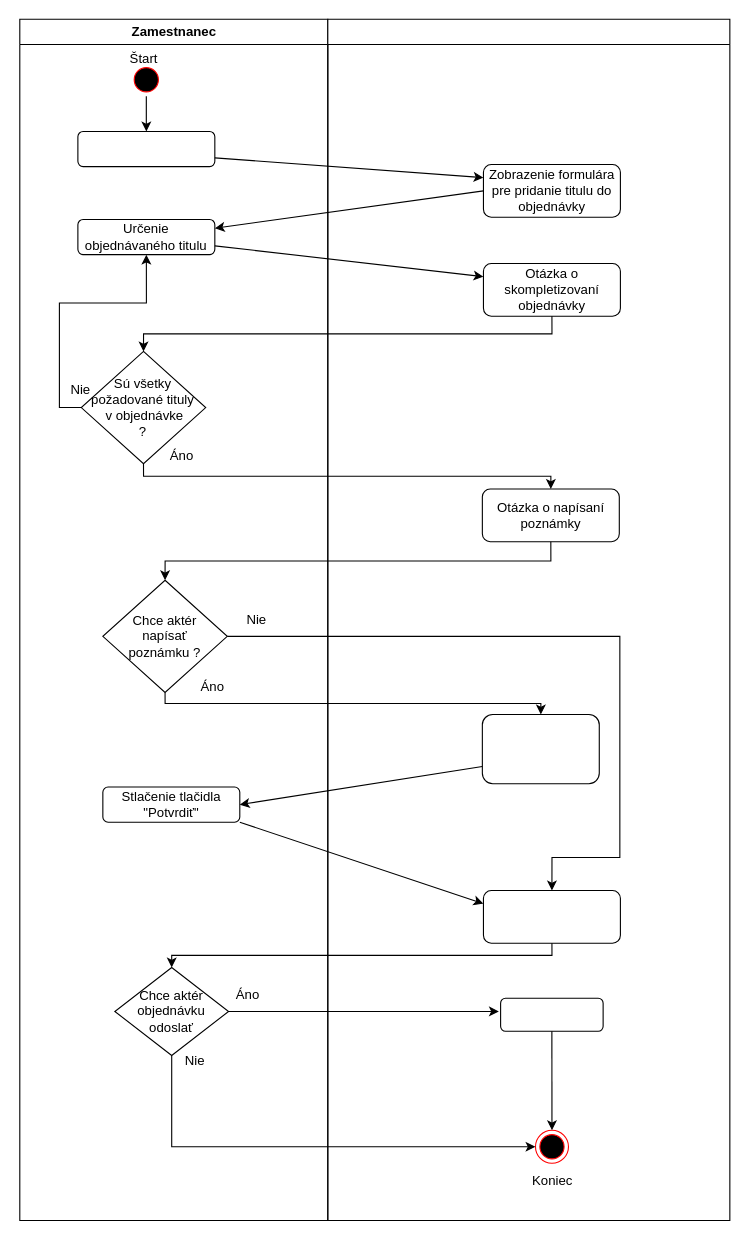
Some shapes in this 749 by 1240 pixel diagram are drawn without their labels. Each missing label, with the box of its shape:
Kliknutie na tlačidlo "Poslať objednávku": (77, 130, 215, 167)
Odoslanie objednávky: (500, 997, 603, 1031)
Systém: (327, 18, 730, 1220)
Zobrazenie formulára pre napísanie poznámky: (481, 713, 599, 784)
Zobrazenie obsahu objednávky a otázky o odoslaní: (482, 889, 620, 943)
